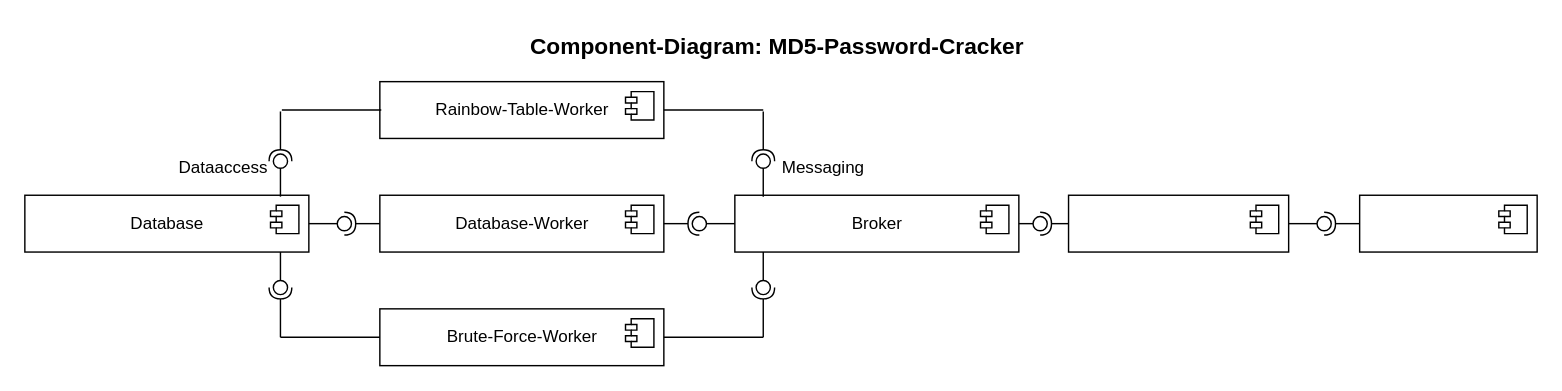
Some shapes in this 1562 by 391 pixel diagram are drawn without their labels. The centre of each missing label's shape, as x and y in pixels:
"Client- UI" belongs at point (1447, 223).
"Frontend-Server" belongs at point (1178, 223).
